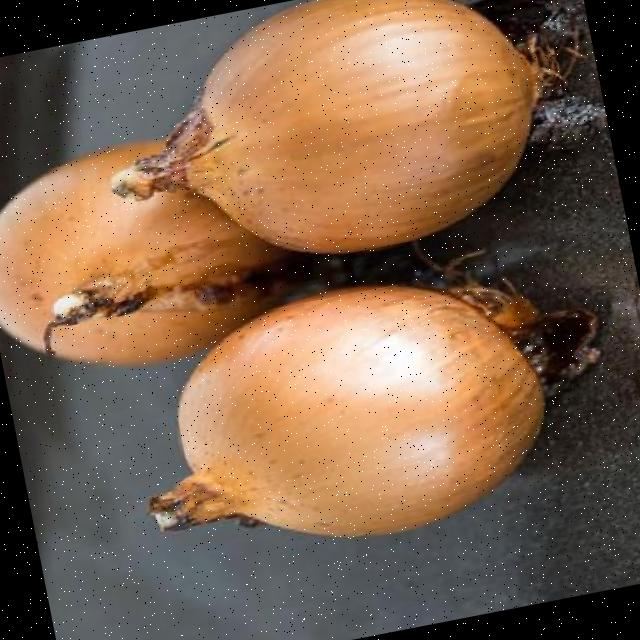Onion: (113, 0, 537, 250), (149, 285, 544, 536), (0, 138, 279, 364)
